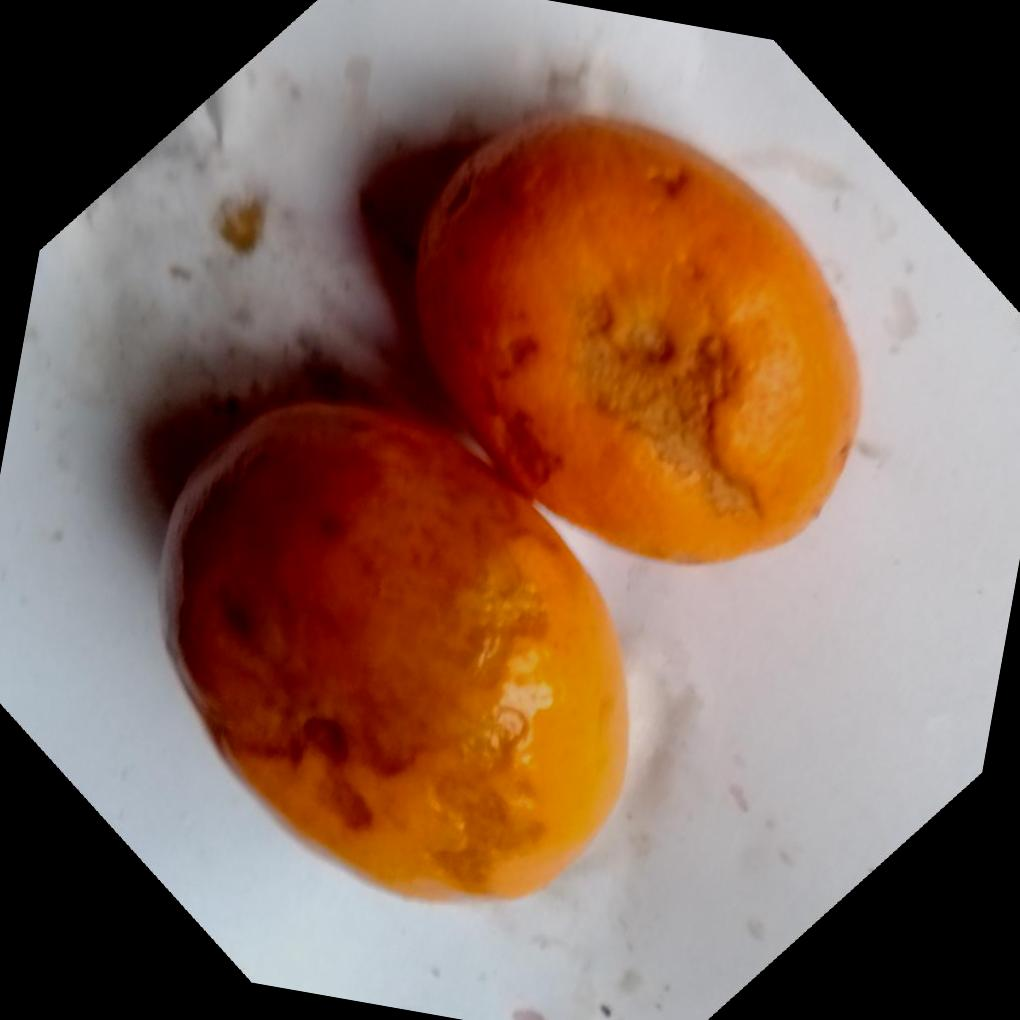FreshOrange: (177, 106, 863, 900)
